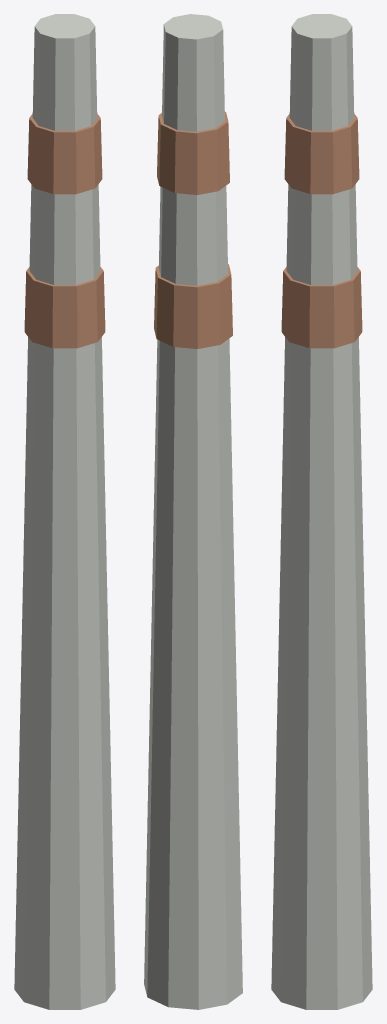
The picture shows the model from 3 angles, left to right: view 1: azimuth 90°, elevation 25°; view 2: azimuth 150°, elevation 25°; view 3: azimuth 270°, elevation 25°; orthographic projection.
Bounding box in the file's own units: 5.71 × 63 × 6.
